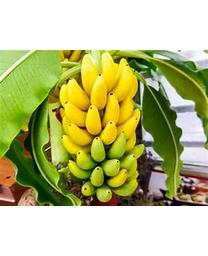banana: (53, 51, 145, 201)
